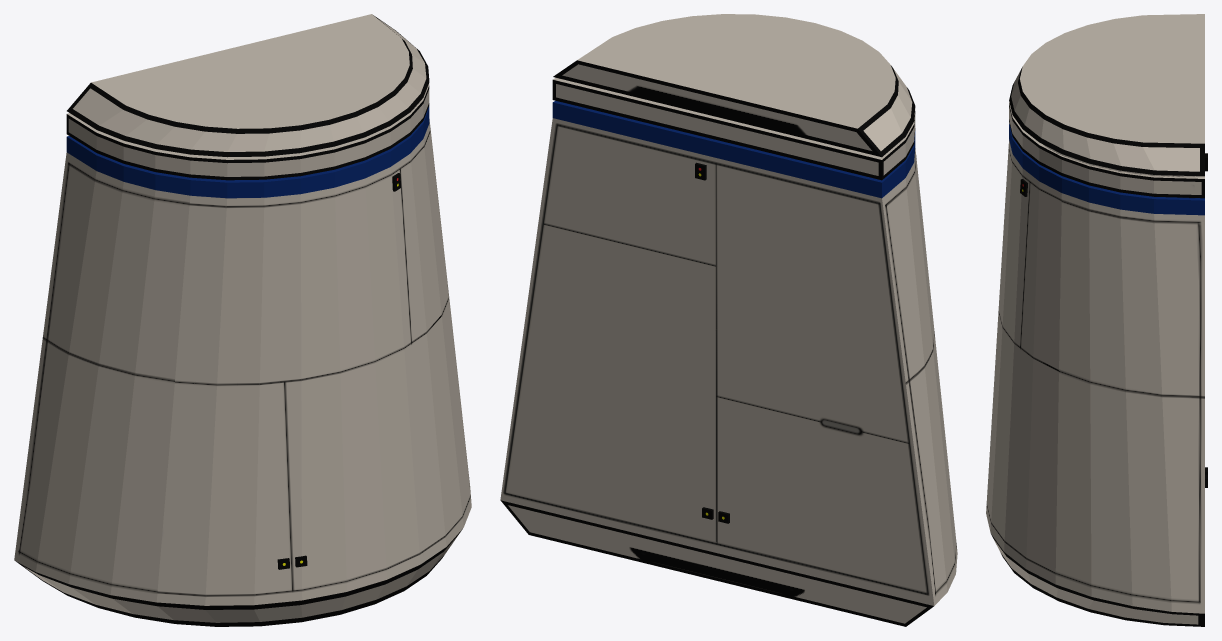
File: sci_fi_wall.fbx
3 renders of one model, left to right at view 1: azimuth 30°, elevation 25°; view 2: azimuth 150°, elevation 25°; view 3: azimuth 270°, elevation 25°, orthographic. The views are drawn at different scales.
Visible parts, largest first — view 1: Circle; view 2: Circle; view 3: Circle.
Part boxes in pixels (bbox=[...]): Circle: bbox=[14, 14, 471, 626]; Circle: bbox=[500, 14, 957, 626]; Circle: bbox=[986, 14, 1207, 626].
Size of the model in its own units: 230 by 246 by 108.
Materials: 1 (1 with a texture image).
